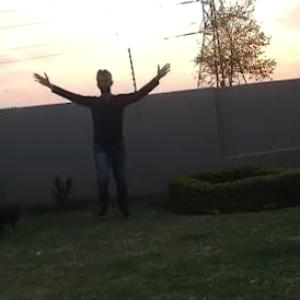takeoff: (45, 54, 202, 231)
